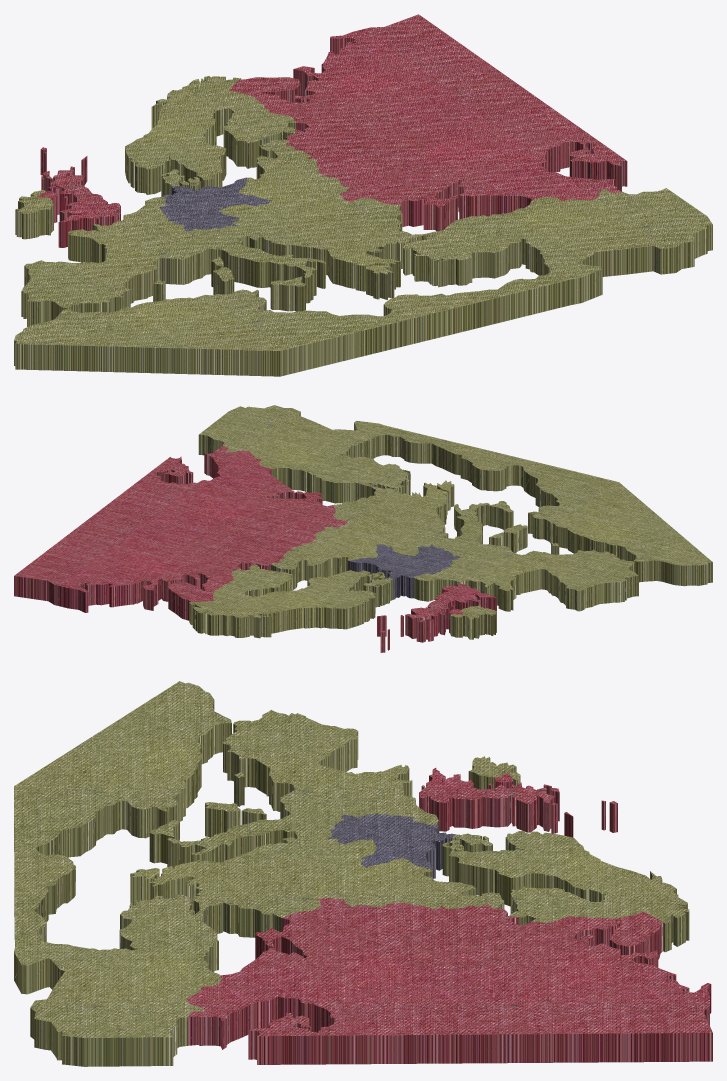
Rendered from Europe3d.DAE.
The picture shows the model from 3 angles, top to bottom: view 1: azimuth 30°, elevation 25°; view 2: azimuth 150°, elevation 25°; view 3: azimuth 270°, elevation 25°; orthographic projection. The views are drawn at different scales.
Parts seen in each view (by area): view 1: Russia, Algeria, Turkey, Libya, Iraq, France, Spain, Italy, Egypt, Sweden, Finland, Norway (+20 smaller); view 2: Russia, Algeria, Turkey, Norway, Libya, France, Spain, GreatBritain01, Morocco, Germany, Iraq, Egypt (+25 smaller); view 3: Russia, Algeria, Turkey, Libya, Persia, Iraq, GreatBritain01, Spain, Sweden, France, Germany, Italy (+21 smaller).
Part boxes in pixels (x1,y1,x2,y2): Russia: (229,14,627,231); Algeria: (71,293,280,376); Turkey: (393,196,599,287); Libya: (263,293,457,376); Iraq: (552,211,703,304); France: (68,214,197,284); Spain: (24,260,157,322); Italy: (183,230,325,303); Egypt: (444,272,570,332); Sweden: (165,94,226,187); Finland: (185,77,295,168); Norway: (125,76,230,194); Russia: (14,445,347,620); Algeria: (544,482,692,559); Turkey: (254,444,410,503); Norway: (192,587,375,638); Libya: (460,447,618,507); France: (450,545,545,611); Spain: (529,549,634,611); GreatBritain01: (377,583,496,652); Morocco: (626,536,712,586); Germany: (348,544,460,599); Iraq: (252,405,386,447); Egypt: (383,426,476,475); Russia: (187,898,712,1064); Algeria: (14,703,201,821); Turkey: (119,894,221,996); Libya: (14,786,104,914); Persia: (56,990,204,1066); Iraq: (14,946,156,1057); GreatBritain01: (419,768,617,837); Spain: (223,717,358,811); Sweden: (449,850,660,906); France: (280,762,415,819); Germany: (327,813,455,878); Italy: (167,805,322,868).
Size of the model in its own units: 666 by 551 by 25.
3 materials, 3 textured.
